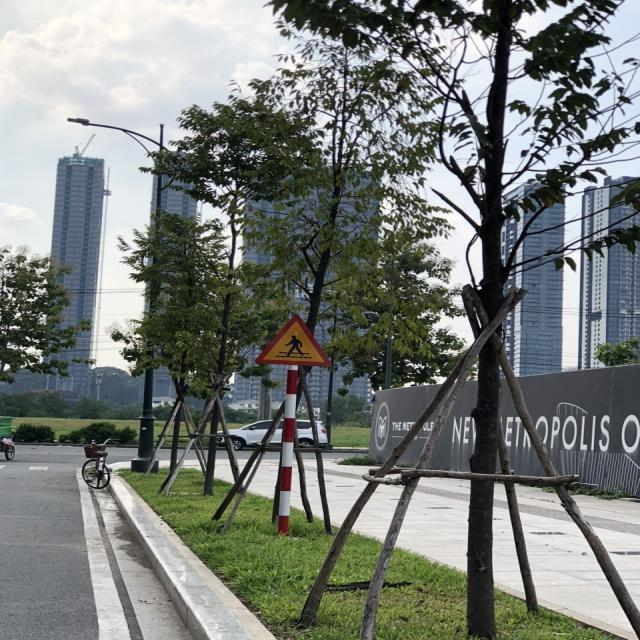Bien bao duong nguoi di bo cat ngang: (248, 308, 346, 372)
